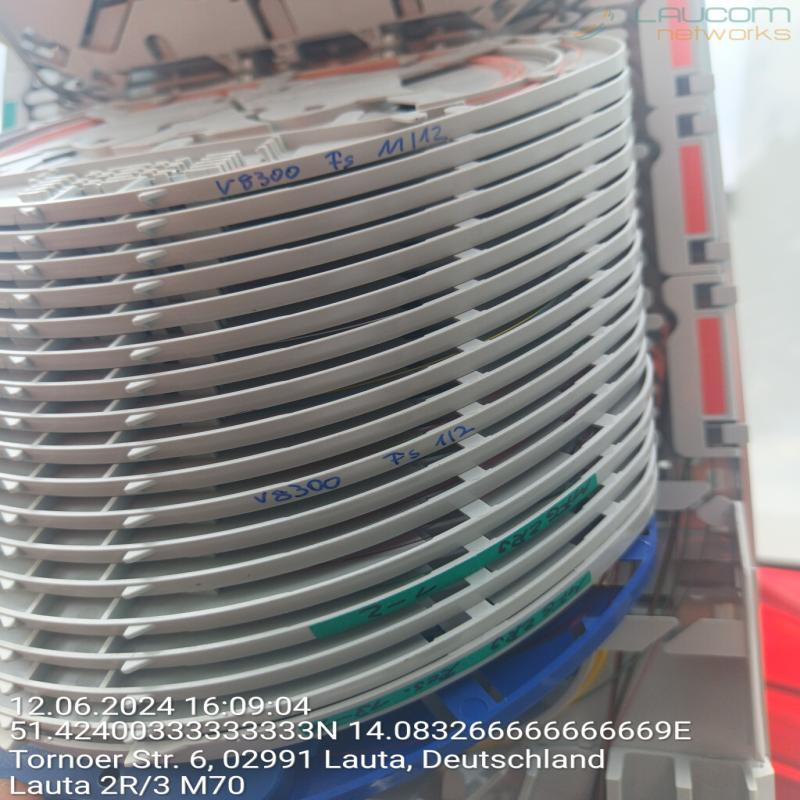NT-Muffen: (0, 3, 769, 799)
